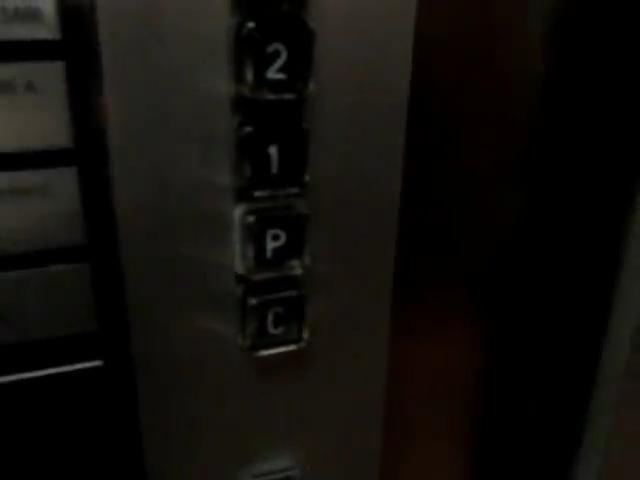1: (225, 116, 311, 203)
2: (226, 16, 317, 104)
C: (236, 282, 318, 365)
P: (230, 200, 317, 284)
